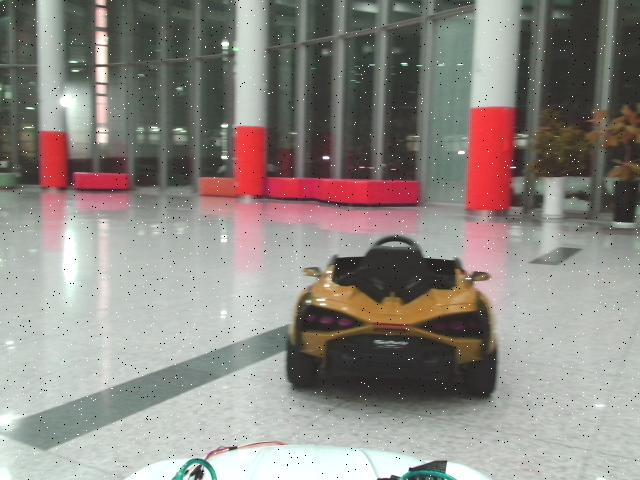car: (287, 236, 497, 399)
